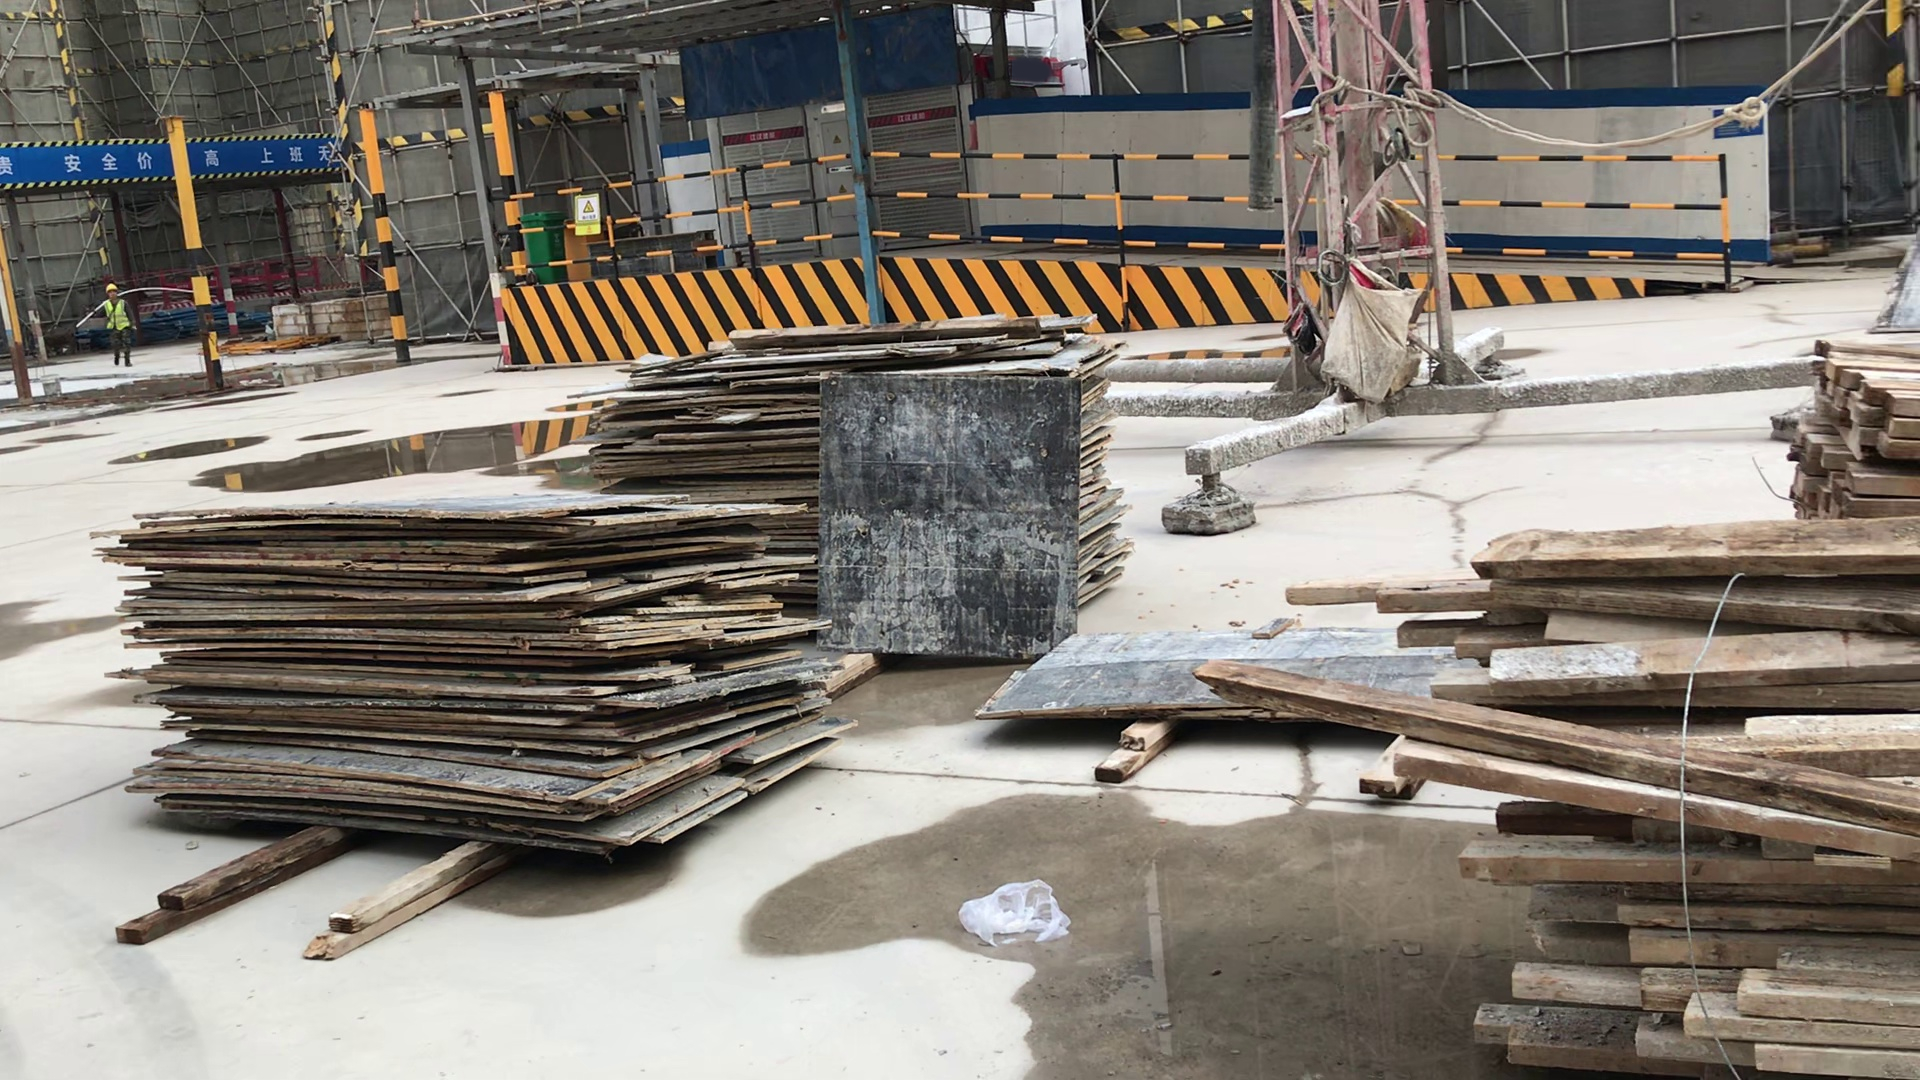board: (80, 479, 864, 860), (562, 312, 1144, 664)
fence: (1447, 146, 1740, 283), (525, 150, 852, 257), (876, 142, 1122, 248), (1130, 149, 1243, 261)
helmet: (106, 283, 118, 292)
person: (104, 282, 136, 368)
slogan: (1, 139, 172, 185), (192, 136, 327, 175), (229, 259, 291, 299), (572, 192, 603, 237), (298, 256, 321, 290), (895, 111, 924, 124), (749, 130, 774, 141)
vest: (104, 299, 130, 330)
wood: (1184, 527, 1920, 1073), (1766, 338, 1920, 513)
